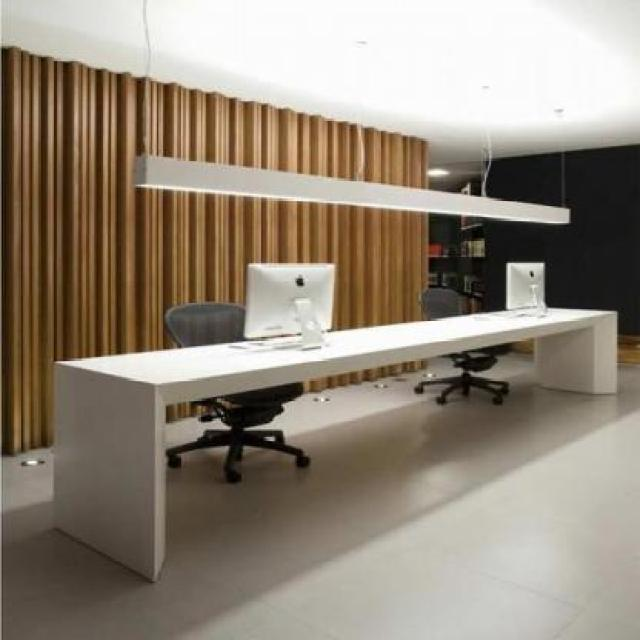frontdesk: (40, 296, 632, 586)
